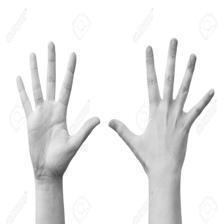Hand: (7, 31, 100, 216), (117, 34, 206, 216)
